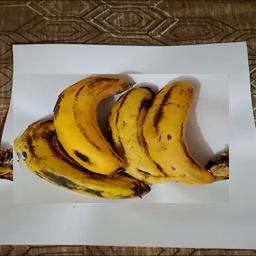Banana Semifresh: (13, 75, 229, 205)
